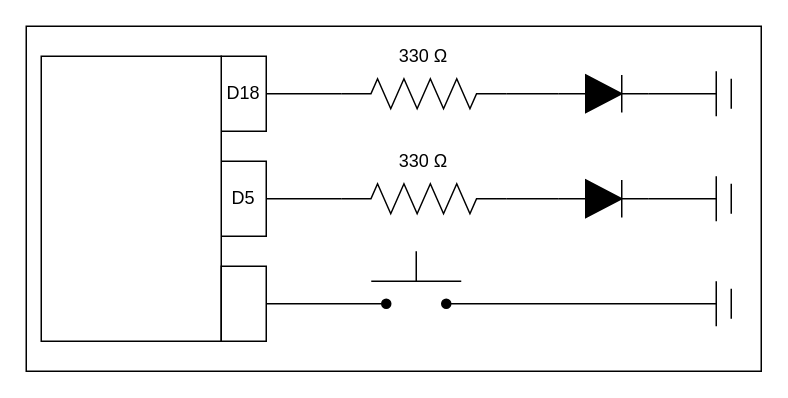
This 788x398 diagram has some shape labels left out. The shapes that lost their labels are listed below. From the top down, each one's box as (x1, y1, x2, y2) in pixels, then its label:
(40, 55, 221, 341): ESP32
(220, 265, 266, 341): D4
